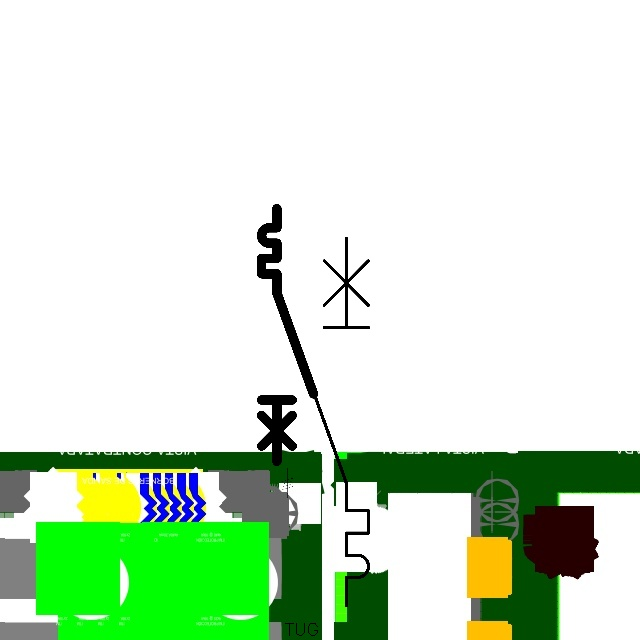interruptor_termomagnetico: (284, 229, 378, 615), (255, 202, 320, 467)
